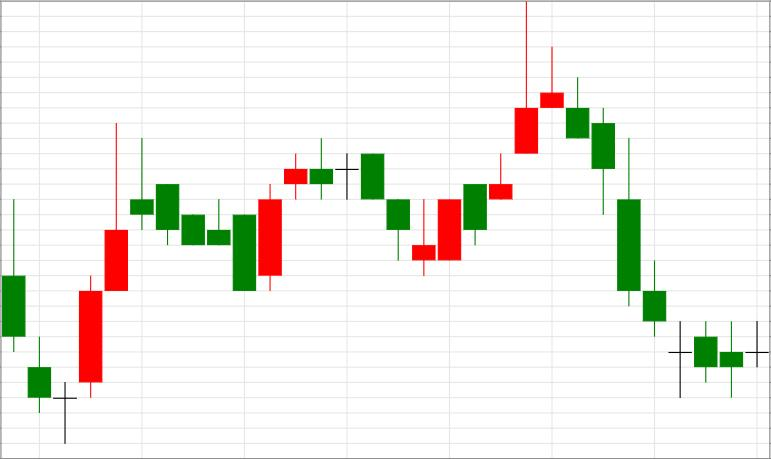bullish_engulfing_rise: (131, 139, 281, 292)
evening_star_fall: (413, 1, 589, 277)
shooting_star_fall: (412, 1, 537, 278)
three_black_crows_fall: (412, 0, 666, 336)
